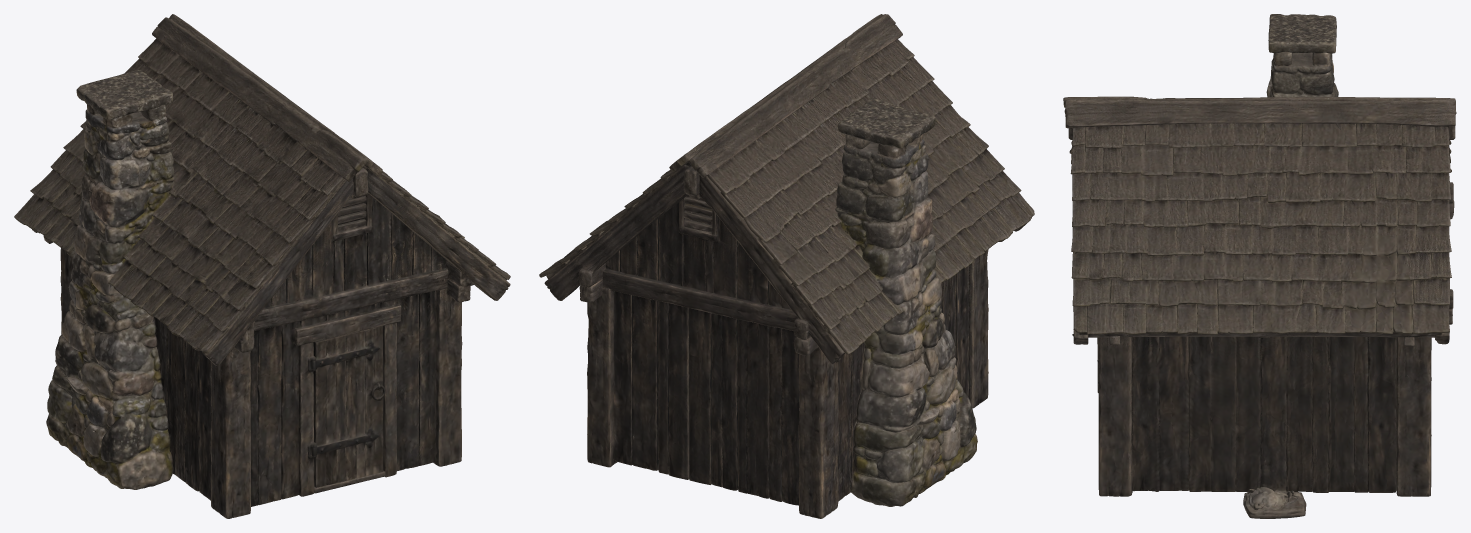
File: wedzarnia.glb
3 renders of one model, left to right at view 1: azimuth 30°, elevation 25°; view 2: azimuth 150°, elevation 25°; view 3: azimuth 270°, elevation 25°, orthographic.
Parts seen in each view (by area): view 1: Mesh_0; view 2: Mesh_0; view 3: Mesh_0.
Boxes of the visible parts, x1,y1,x2,y2 form: Mesh_0: (14, 14, 510, 518); Mesh_0: (539, 14, 1034, 518); Mesh_0: (1063, 14, 1456, 518).
Bounding box in the file's own units: 1.85 × 1.9 × 1.89.
1 material, 1 textured.
